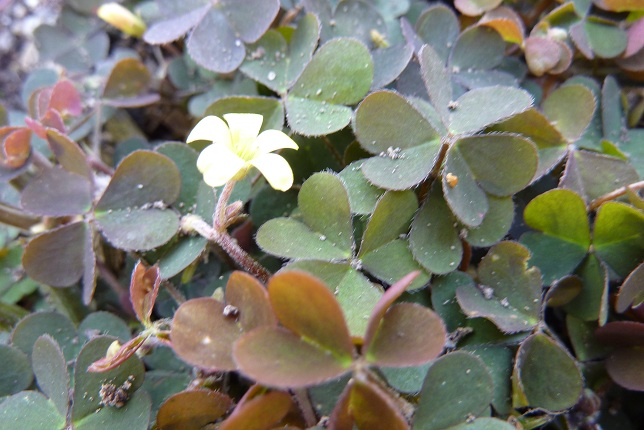oxalis: (95, 37, 618, 430)
